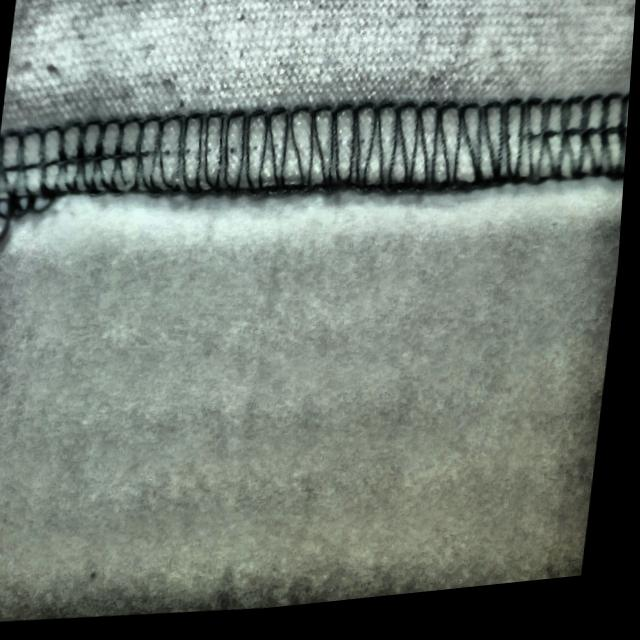Stitch: (0, 120, 69, 248)
